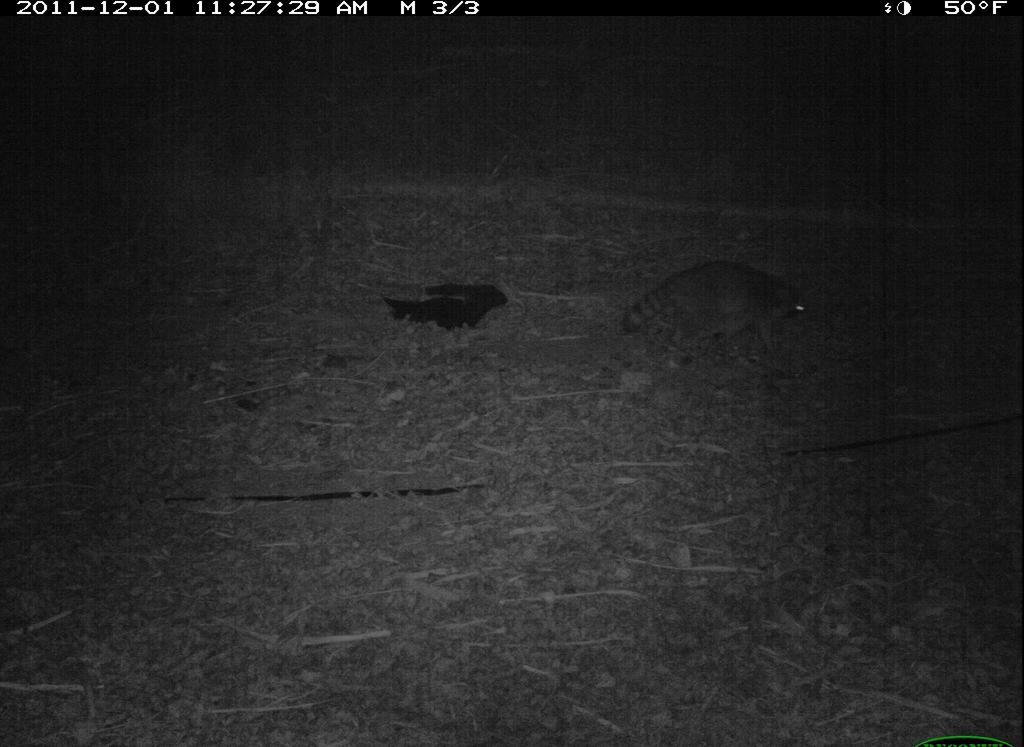raccoon: (619, 254, 831, 372)
